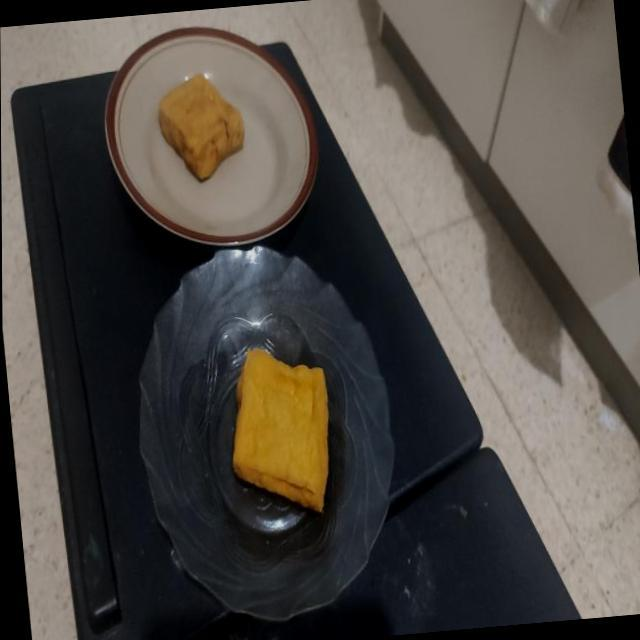tahu_goreng: (232, 348, 328, 512), (158, 74, 244, 180)
